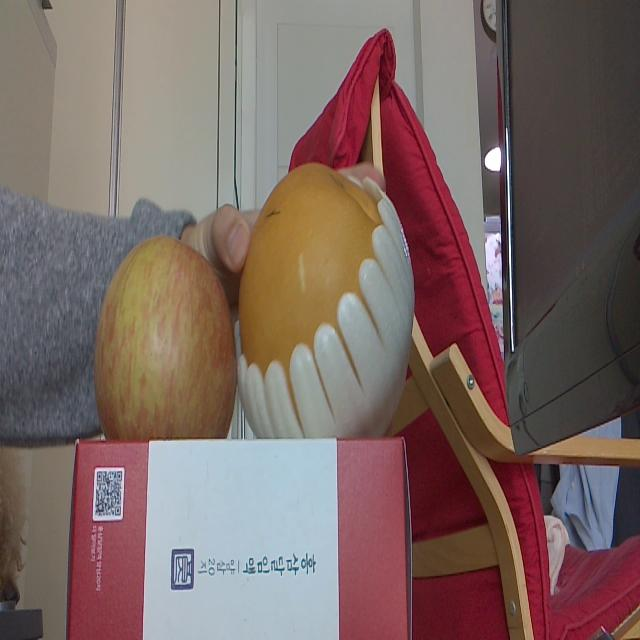apple: (94, 235, 236, 441)
pear: (238, 162, 414, 438)
